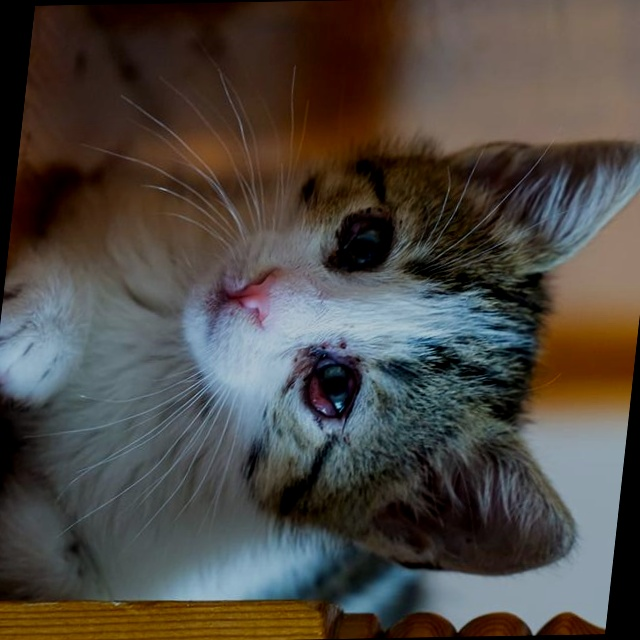eye_infection: (297, 345, 367, 427), (334, 218, 403, 272)
